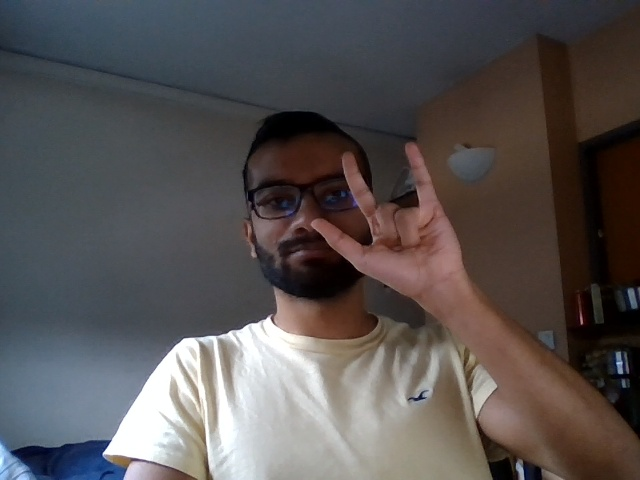I Love You: (300, 139, 473, 303)
